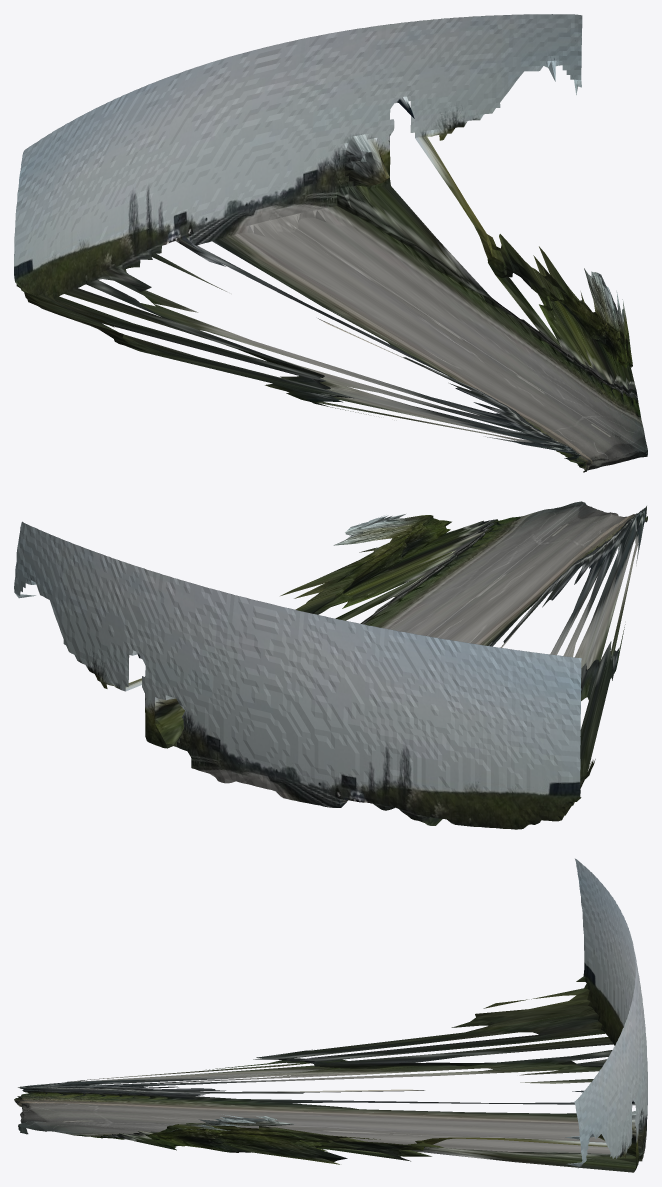
The model's file is highway.glb.
3 views of the same model, one above another, from view 1: azimuth 30°, elevation 25°; view 2: azimuth 150°, elevation 25°; view 3: azimuth 270°, elevation 25° (orthographic). The views are drawn at different scales.
Visible parts, largest first — view 1: output; view 2: output; view 3: output.
Boxes of the visible parts, x1,y1,x2,y2 form: output: (14,14,647,472); output: (14,501,647,829); output: (14,858,647,1172).
Bounding box in the file's own units: 41.08 × 13.2 × 44.6.
Materials: 1 (1 with a texture image).
